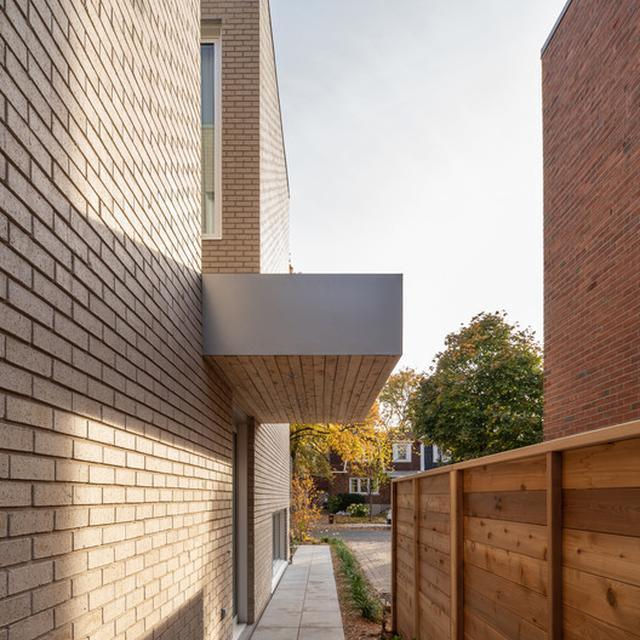building: (1, 0, 402, 640), (539, 0, 640, 445), (323, 426, 441, 506)
